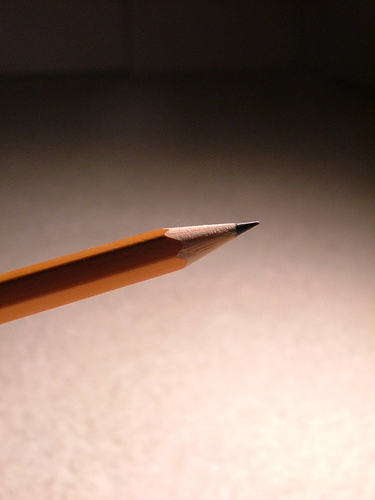pen_tip: (154, 206, 274, 276)
